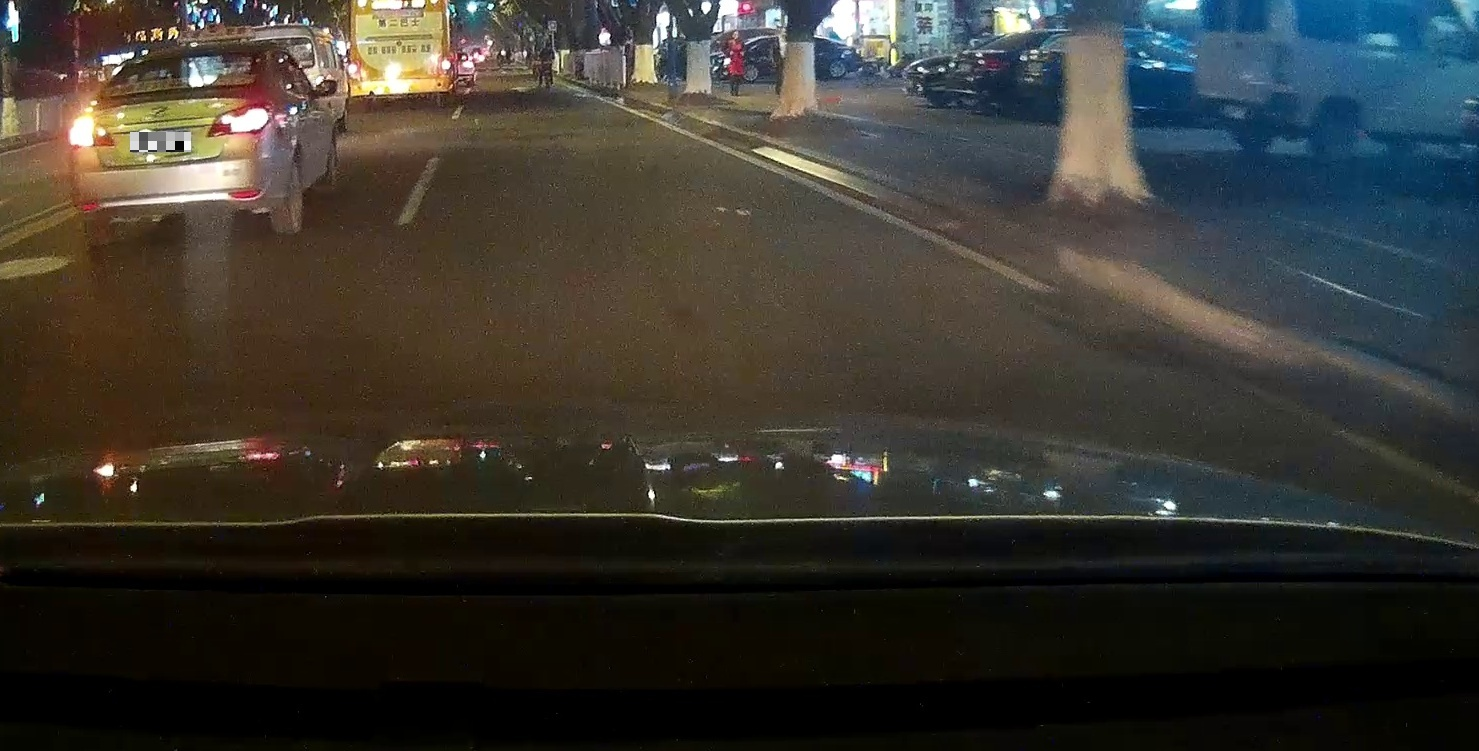L_light: (68, 114, 115, 148)
R_light: (205, 102, 274, 138)
T_light: (160, 85, 190, 90)
night-no: (68, 41, 276, 246)
plate_1: (130, 132, 191, 152)
